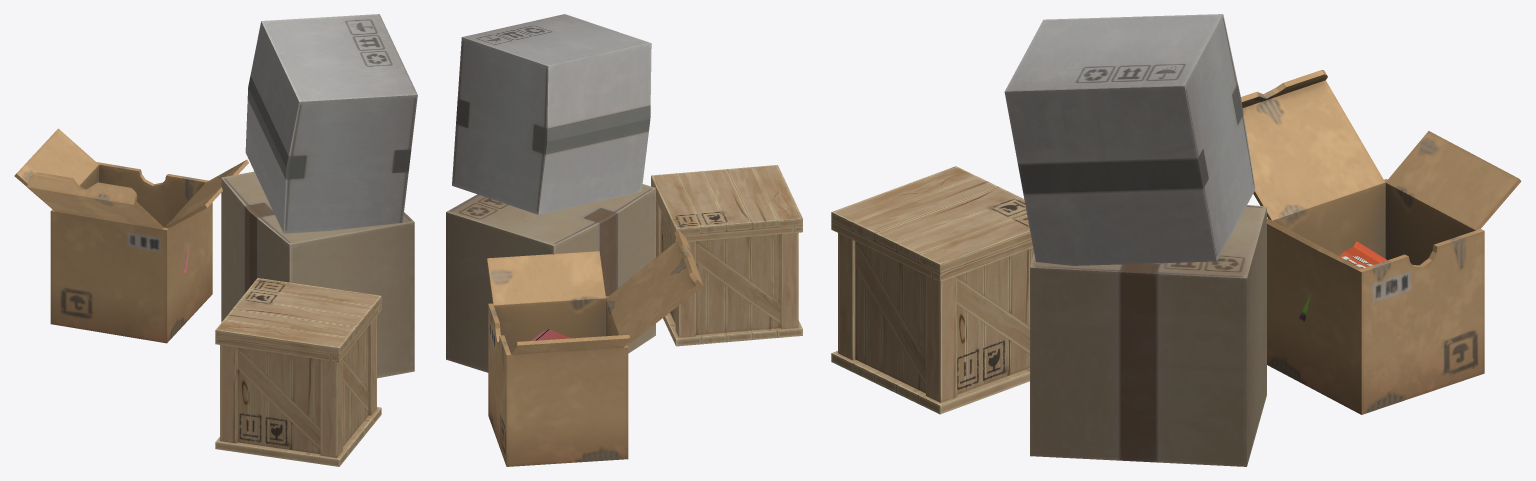
The model's file is P_NEWMaket01_after17.obj.
The picture shows the model from 3 angles, left to right: view 1: azimuth 30°, elevation 25°; view 2: azimuth 150°, elevation 25°; view 3: azimuth 270°, elevation 25°; orthographic projection. The views are drawn at different scales.
Bounding box in the file's own units: 1.66 × 1.67 × 2.63.
Materials: 5 (5 with a texture image).
